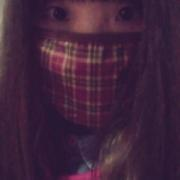OK: (29, 3, 161, 135)
